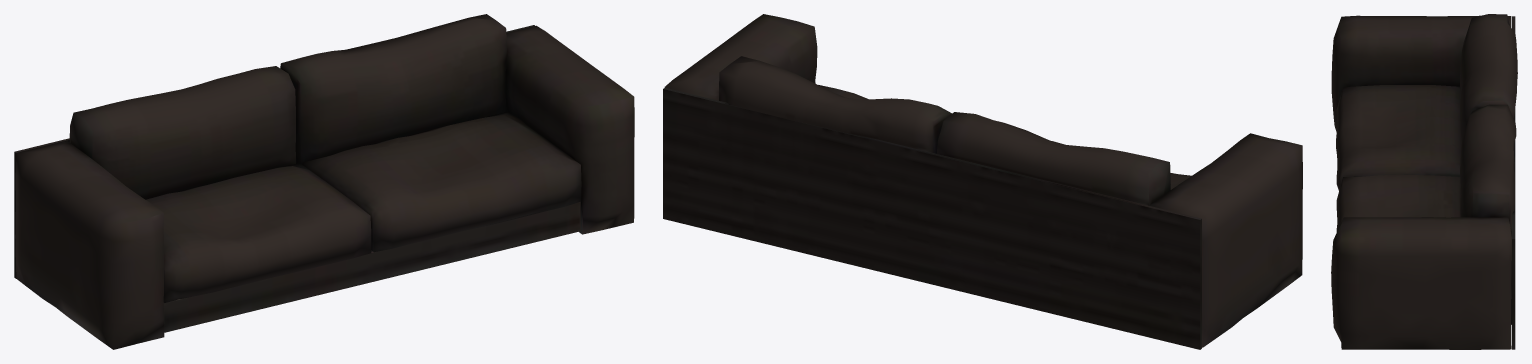
Rendered from sofa.gltf.
3 views of the same model, side by side, from view 1: azimuth 30°, elevation 25°; view 2: azimuth 150°, elevation 25°; view 3: azimuth 270°, elevation 25° (orthographic). The views are drawn at different scales.
Visible parts, largest first — view 1: body; view 2: body; view 3: body.
Part boxes in pixels (<box>): body: <box>14,14,634,349</box>; body: <box>663,14,1302,349</box>; body: <box>1331,14,1517,349</box>.
Size of the model in its own units: 1.9 by 0.5485 by 0.6572.
Materials: 1 (1 with a texture image).
